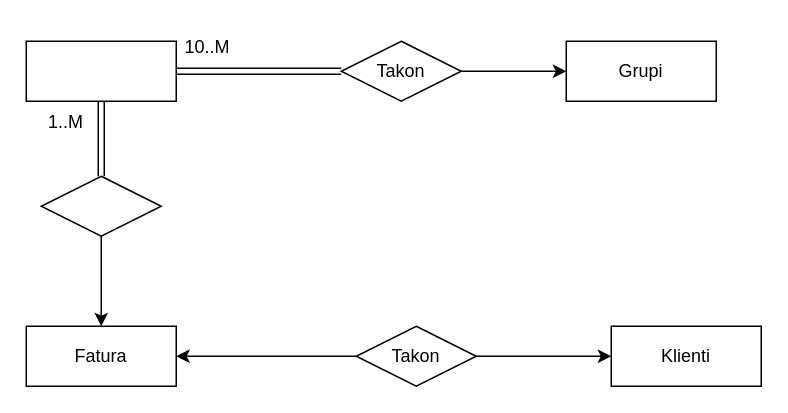
The diagram is 788 pixels wide and 413 high, and some of its shapes have lost their labels. Here are the shapes that lost their labels. From the top down, the centre of each, then its label:
At (x=100, y=70): "Artikulli".
At (x=100, y=205): "Posedon".
